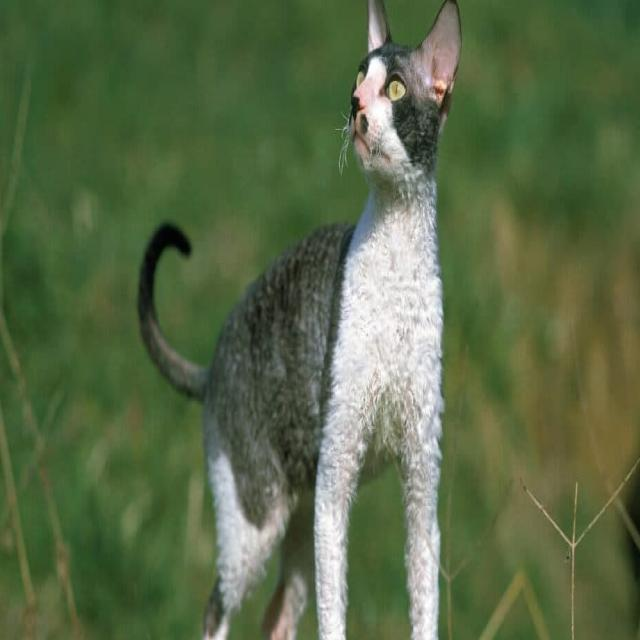Cornish Rex: (133, 0, 467, 640)
